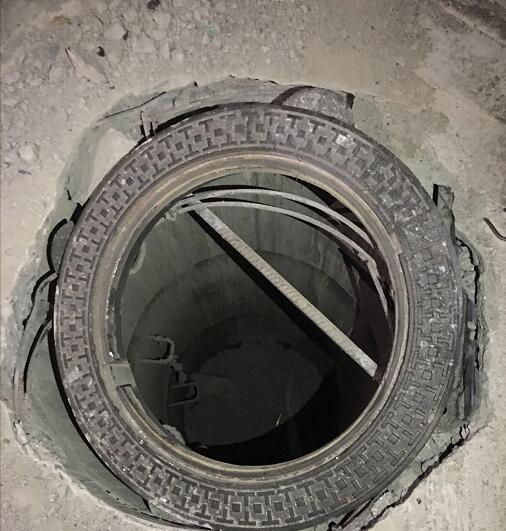wellcover: (47, 111, 451, 528)
